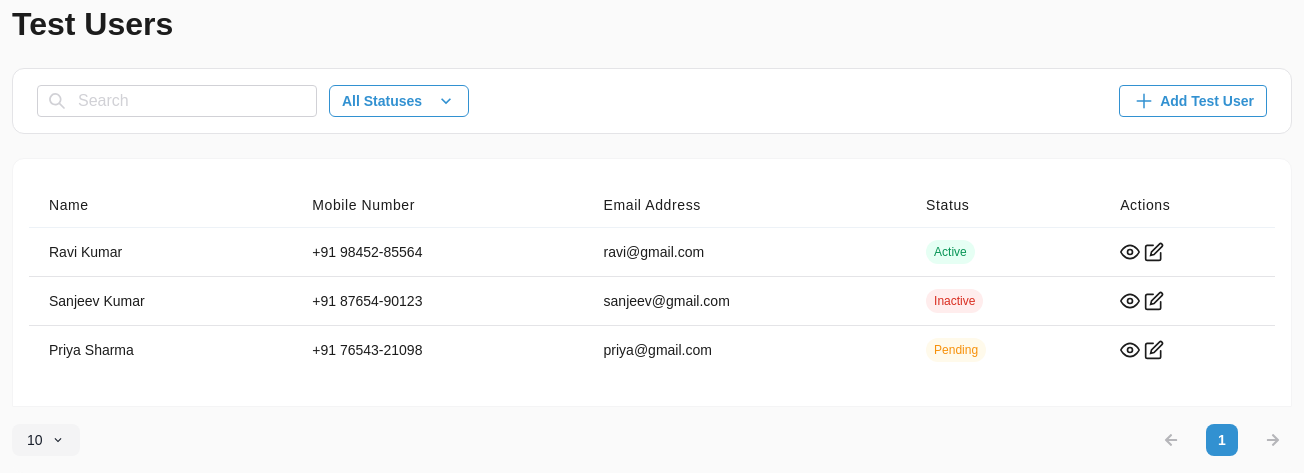
Test: UserAdminListPage › filters items by search query
Type "Ravi" into the field named "search users" at (177, 101), box [37,85,317,117]
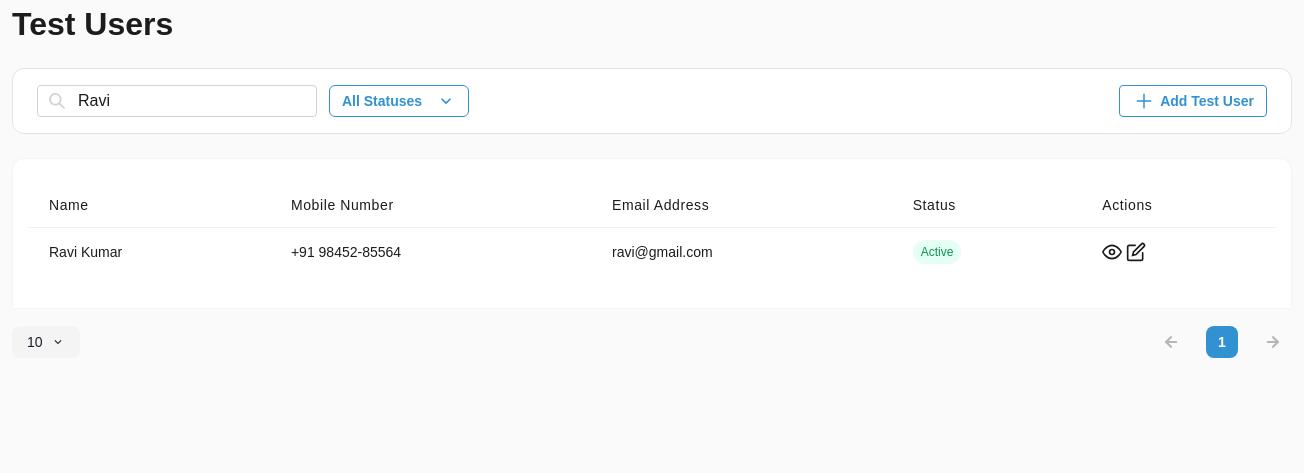
Check: the text "Ravi Kumar" is shown, box [49,244,122,260]
Check: the text "Sanjeev Kumar" is gone
